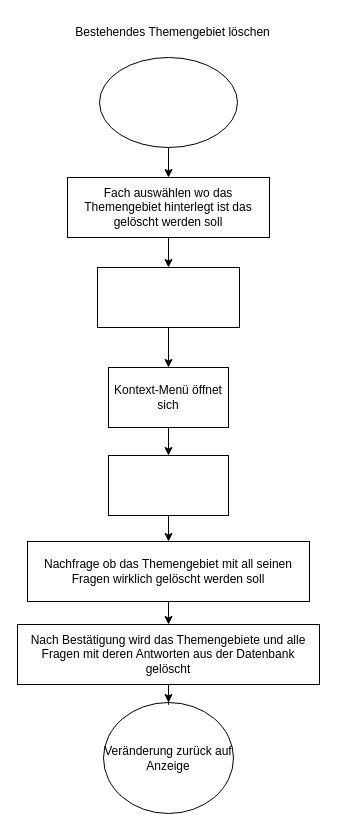
The diagram is 337 pixels wide and 831 high, and some of its shapes have lost their labels. The shapes that lost their labels are listed below. From the top down, each one's box as (x1, y1, x2, y2) in pixels, then its label:
(98, 56, 238, 148): Klick auf den Lernen- Button auf der Navbar
(96, 266, 240, 328): Langen Klick auf das Themengebiet das gelöscht werden soll
(108, 454, 228, 516): Löschen auf dem Kontext-Menü auswählen
